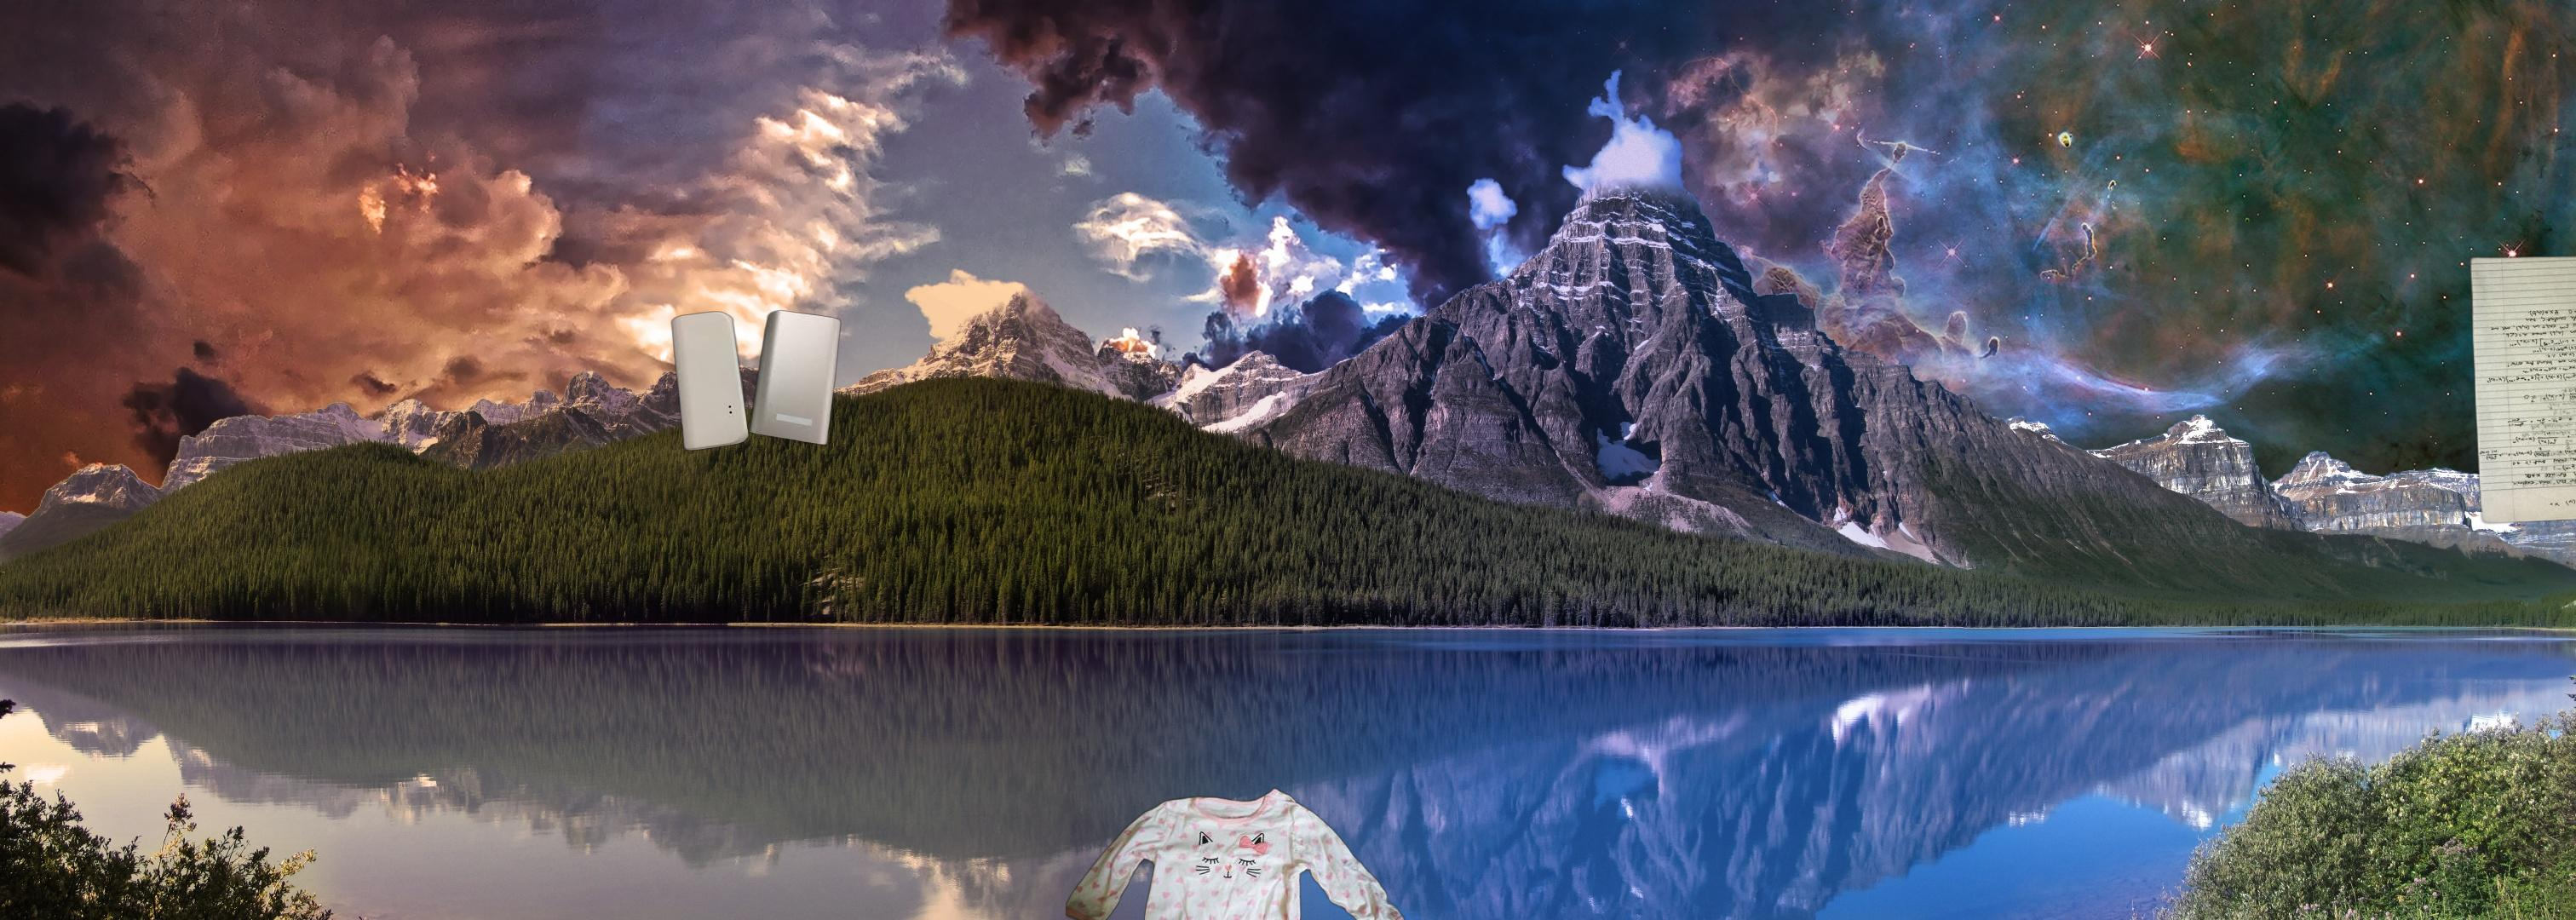battery: (669, 307, 843, 453)
clothes: (1066, 785, 1406, 920)
paper: (2466, 248, 2576, 526)
